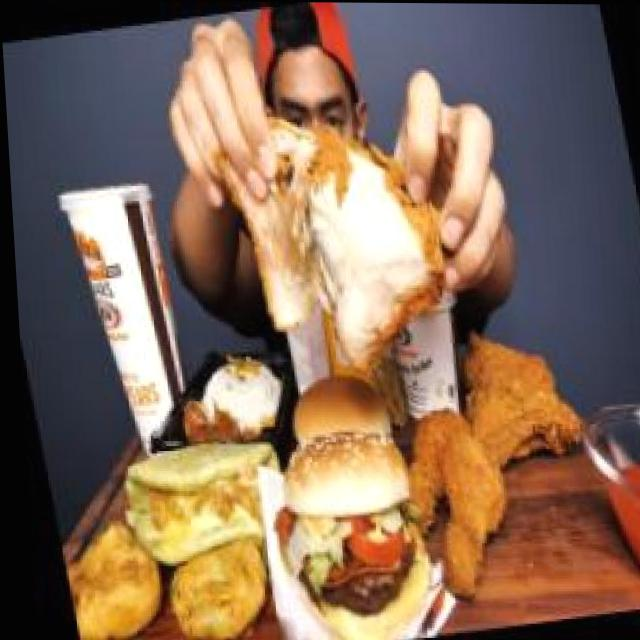black pepper rice bowl: (171, 344, 294, 460)
cheese burger: (266, 348, 400, 467)
fried chicken: (193, 56, 488, 423), (355, 324, 611, 613)
mango chicken pocket: (99, 417, 307, 577)
mozza burger: (245, 421, 445, 640)
perkedel: (48, 502, 173, 640)
